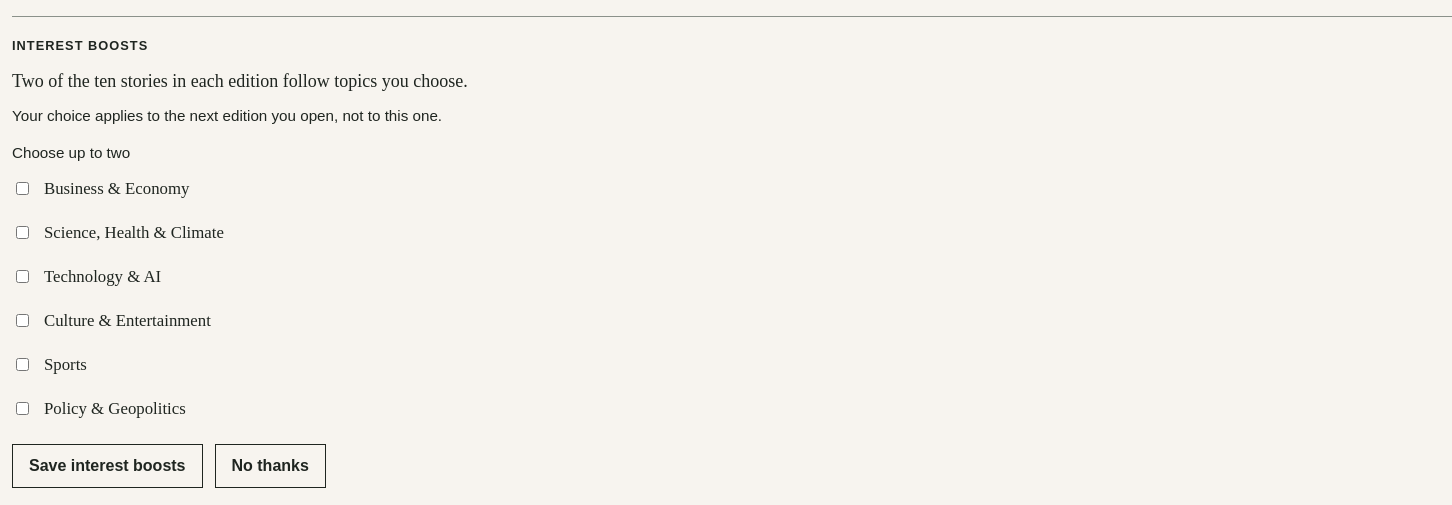
Test case: the six choices › frees the slot again when the reader unticks one
Click the checkbox labelled "Technology & AI" at (22, 277), box 16,270 -> 29,283
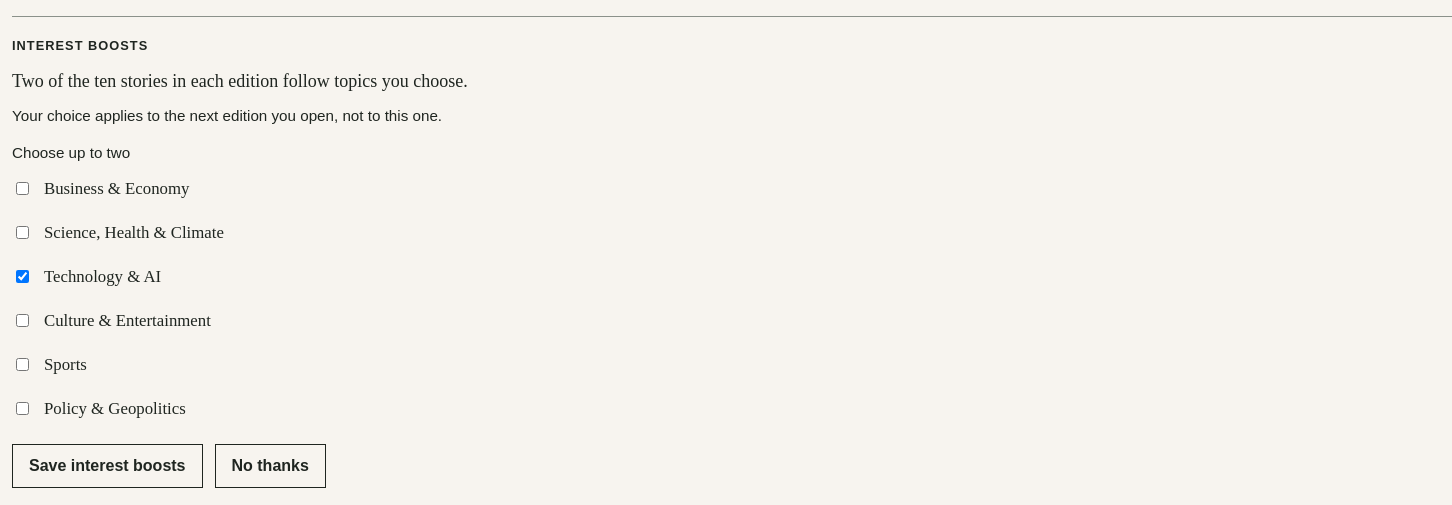
Click the checkbox labelled "Sports" at (22, 365), box 16,358 -> 29,371
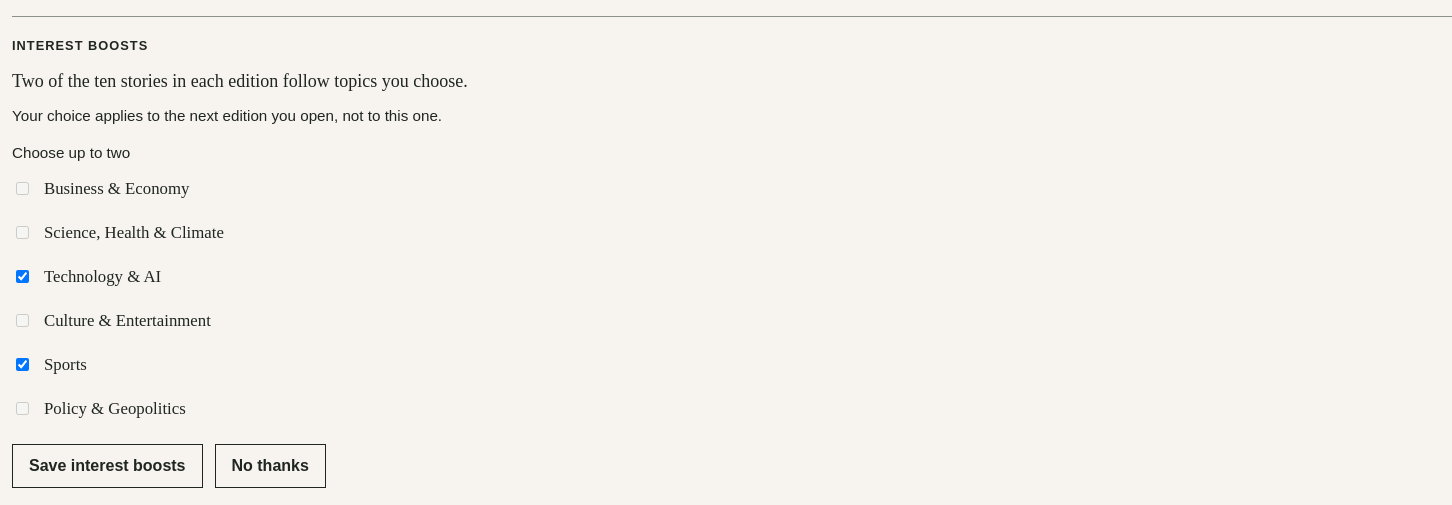
Click the checkbox labelled "Sports" at (22, 365), box 16,358 -> 29,371
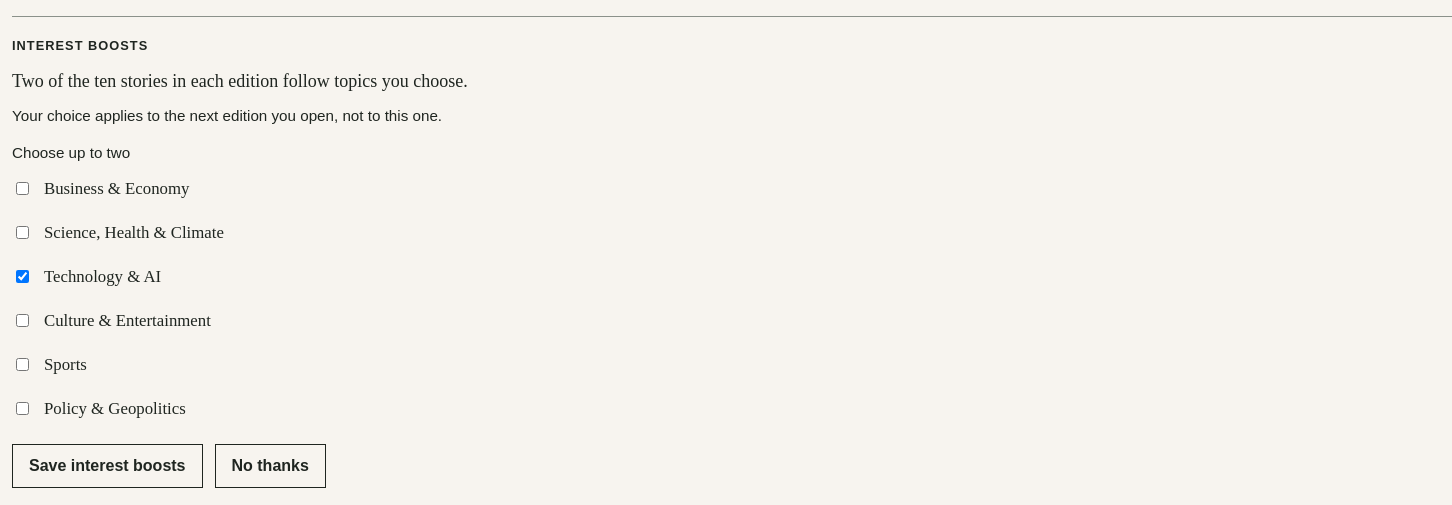
Now the checkbox labelled "Sports" is not checked, box 16,358 -> 29,371
Now the checkbox labelled "Business & Economy" is enabled, box 16,182 -> 29,195
Now the checkbox labelled "Science, Health & Climate" is enabled, box 16,226 -> 29,239
